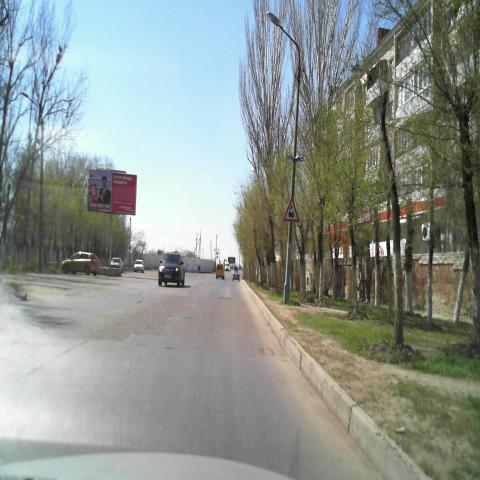1_2: (282, 198, 300, 222)
